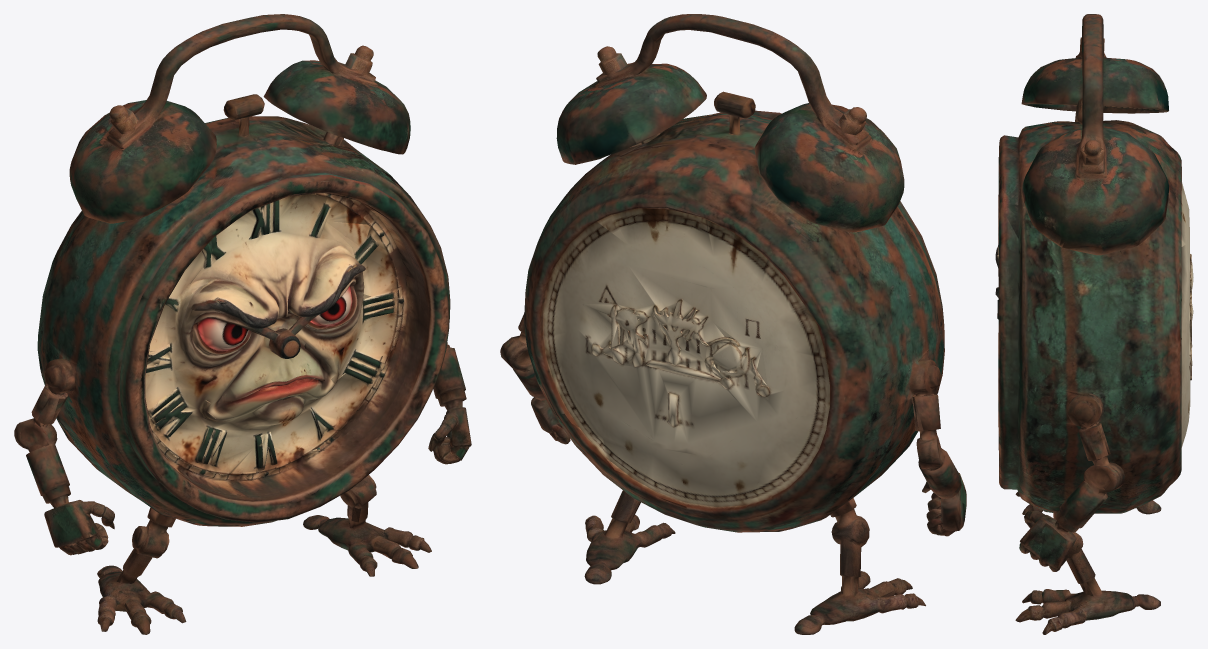
File: Reveil.fbx
3 renders of one model, left to right at view 1: azimuth 30°, elevation 25°; view 2: azimuth 150°, elevation 25°; view 3: azimuth 270°, elevation 25°, orthographic. The views are drawn at different scales.
Visible parts, largest first — view 1: output_unwrapped; view 2: output_unwrapped; view 3: output_unwrapped.
Part boxes in pixels (x1,y1,x2,y2): output_unwrapped: [14, 14, 471, 634]; output_unwrapped: [500, 14, 966, 634]; output_unwrapped: [995, 14, 1193, 634].
Size of the model in its own units: 155 by 190 by 64.68.
1 material, 1 textured.
